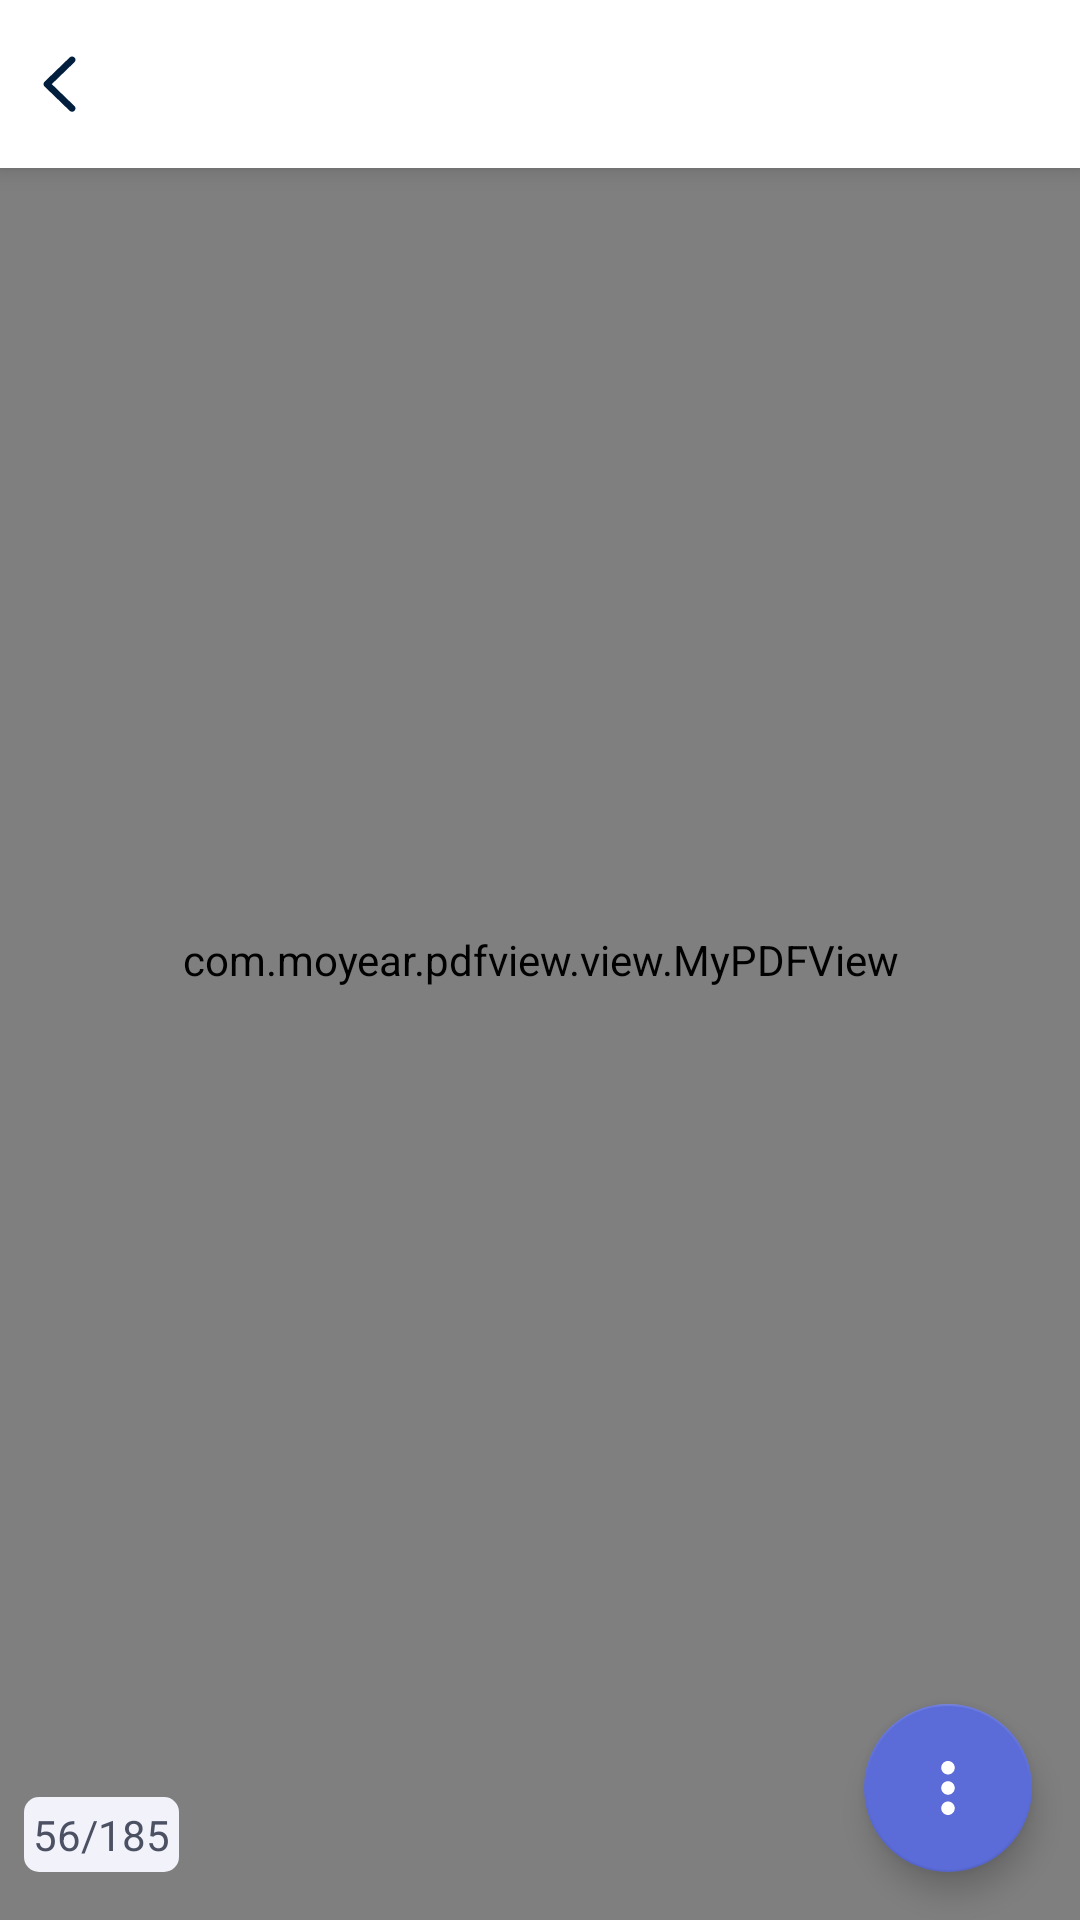

Named icons in this screenshot (1080 × 1920) and their centers, point (x, y):
back neat: point (59, 84)
operate more: point (948, 1788)
